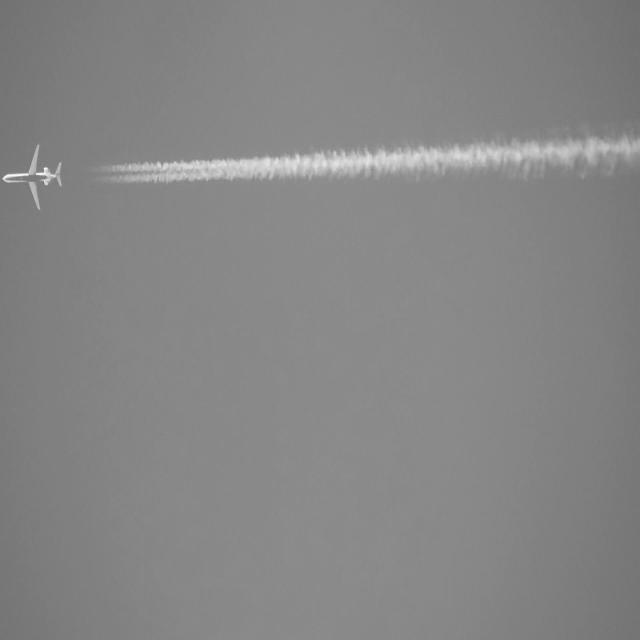aeroplane: (1, 136, 66, 216)
